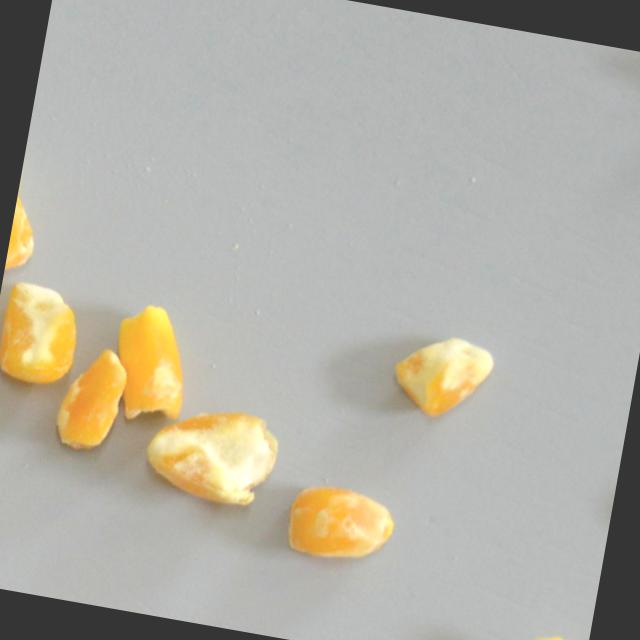dañado: (136, 395, 286, 517), (383, 319, 501, 431), (278, 473, 401, 573), (48, 337, 133, 462), (0, 275, 87, 393), (4, 149, 54, 275), (514, 622, 589, 640)
pelicula: (98, 295, 204, 430)
